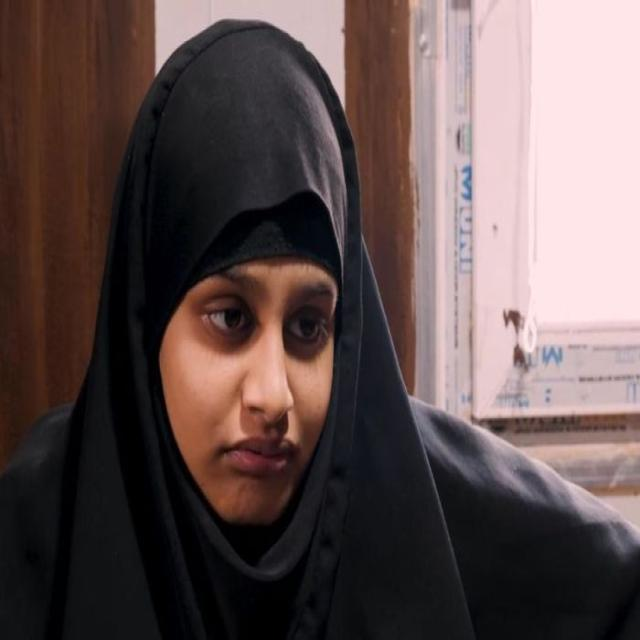human: (19, 16, 482, 640)
